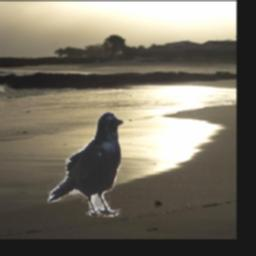Crow: (47, 111, 127, 218)
